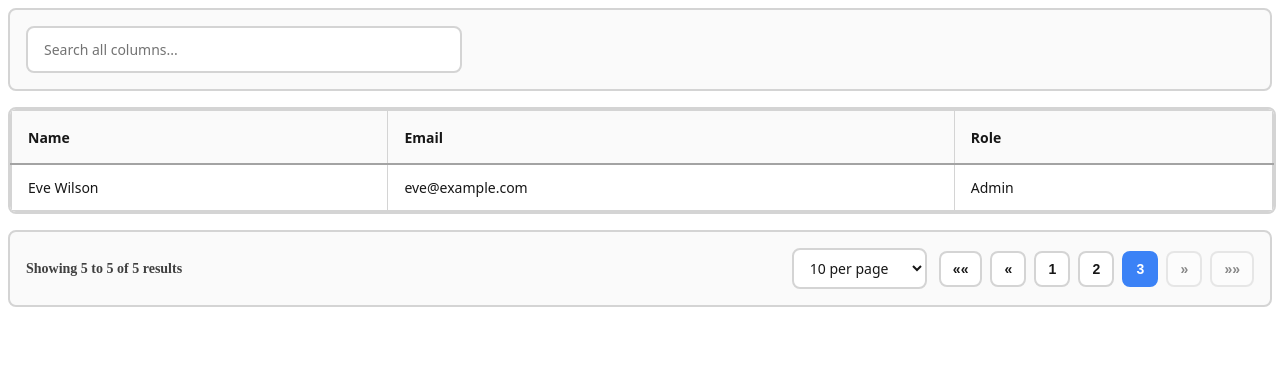
Scenario: DataTable › Pagination › navigates to first page
Step 1. Click the button named "First page" → [961, 268], box [939,250,982,286]
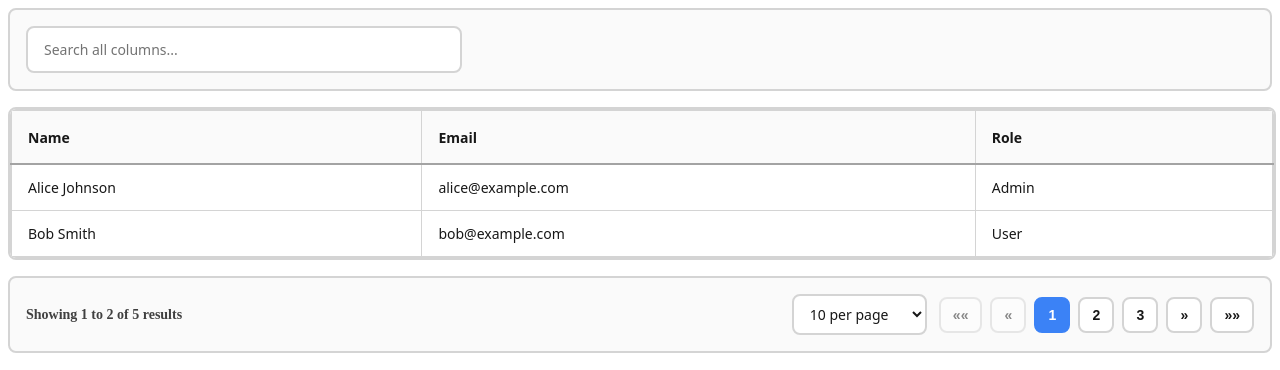
Check: the text "Alice Johnson" is shown, box [11,164,422,210]
